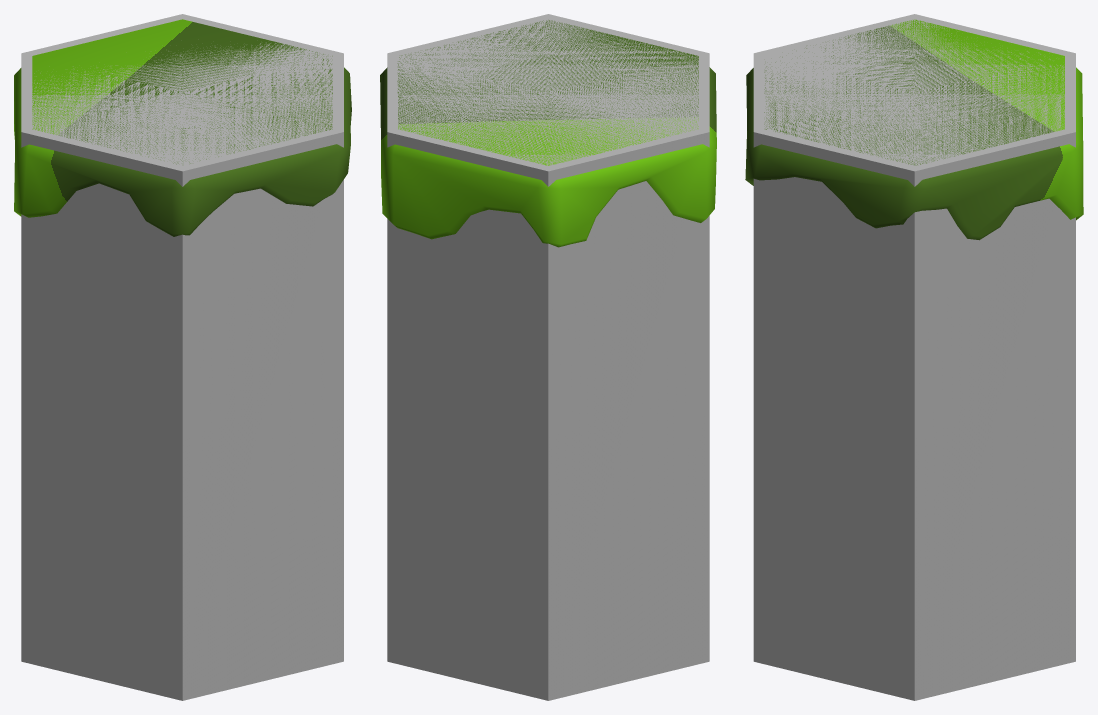
File: Deco_StoneTerrace_Collider_Compound.glb
The picture shows the model from 3 angles, left to right: view 1: azimuth 30°, elevation 25°; view 2: azimuth 150°, elevation 25°; view 3: azimuth 270°, elevation 25°; orthographic projection.
Parts seen in each view (by area): view 1: Deco_StoneTerrace_Collider_ConvexHull, Deco_StoneTerrace_Collider_Compound; view 2: Deco_StoneTerrace_Collider_ConvexHull, Deco_StoneTerrace_Collider_Compound; view 3: Deco_StoneTerrace_Collider_ConvexHull, Deco_StoneTerrace_Collider_Compound.
Part boxes in pixels (x1,y1,x2,y2): Deco_StoneTerrace_Collider_ConvexHull: (21, 14, 343, 700); Deco_StoneTerrace_Collider_Compound: (14, 19, 351, 236); Deco_StoneTerrace_Collider_ConvexHull: (387, 14, 709, 700); Deco_StoneTerrace_Collider_Compound: (380, 20, 716, 247); Deco_StoneTerrace_Collider_ConvexHull: (753, 14, 1075, 700); Deco_StoneTerrace_Collider_Compound: (745, 19, 1083, 240).
Bounding box in the file's own units: 3.22 × 5.01 × 2.9.
Materials: 2 (1 with a texture image).
